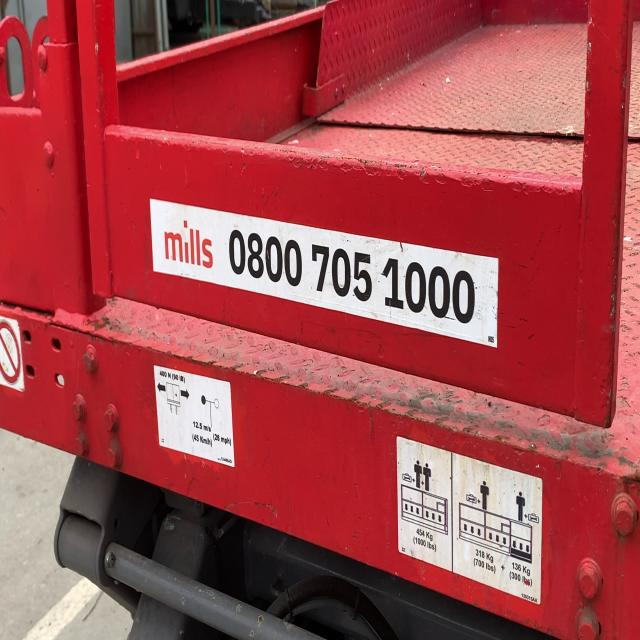Adesivo Longo: (148, 194, 500, 351)
